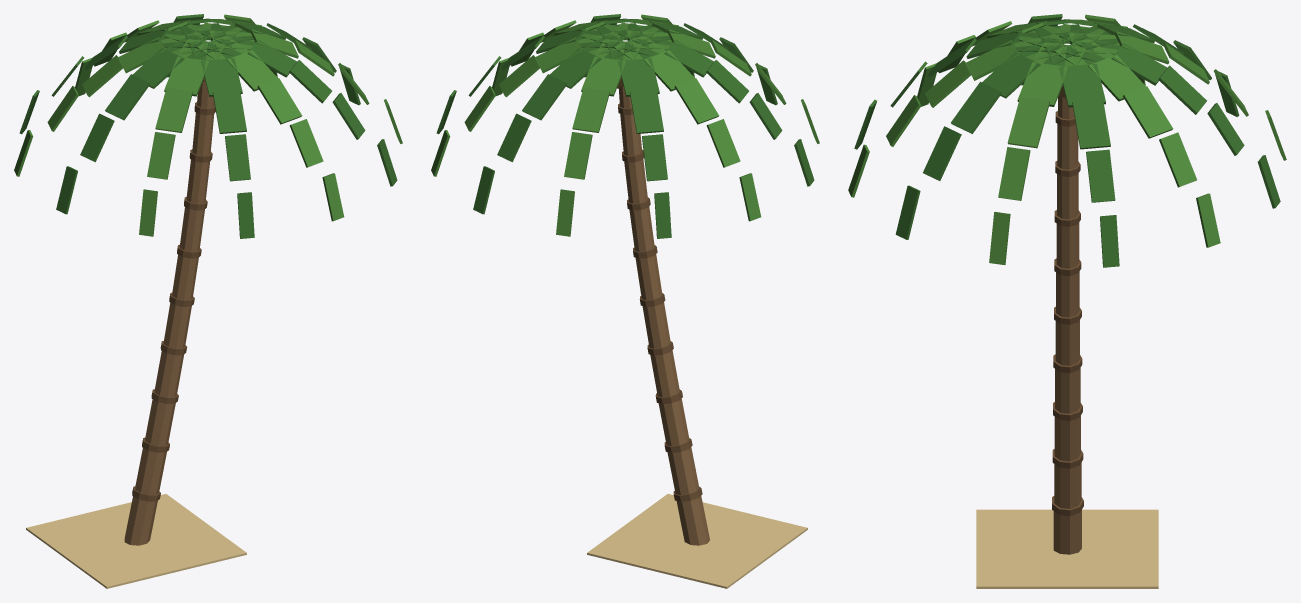
The model's file is OT_Tree_Palm.glb.
3 views of the same model, side by side, from view 1: azimuth 30°, elevation 25°; view 2: azimuth 150°, elevation 25°; view 3: azimuth 270°, elevation 25° (orthographic). The views are drawn at different scales.
Parts seen in each view (by area): view 1: OT_Tree_Palm_PalmLeaf__4f8a3a, OT_Tree_Palm_PalmLeaf2__3d7230, OT_Tree_Palm_Sand__d8c08a, OT_Tree_Palm_PalmBark__8a6a48, OT_Tree_Palm_PalmRing__6e5236; view 2: OT_Tree_Palm_PalmLeaf__4f8a3a, OT_Tree_Palm_PalmLeaf2__3d7230, OT_Tree_Palm_Sand__d8c08a, OT_Tree_Palm_PalmBark__8a6a48, OT_Tree_Palm_PalmRing__6e5236; view 3: OT_Tree_Palm_PalmLeaf__4f8a3a, OT_Tree_Palm_PalmLeaf2__3d7230, OT_Tree_Palm_Sand__d8c08a, OT_Tree_Palm_PalmBark__8a6a48, OT_Tree_Palm_PalmRing__6e5236.
Boxes of the visible parts, x1,y1,x2,y2 form: OT_Tree_Palm_PalmLeaf__4f8a3a: (14,14,402,236); OT_Tree_Palm_PalmLeaf2__3d7230: (19,14,397,238); OT_Tree_Palm_Sand__d8c08a: (26,494,246,588); OT_Tree_Palm_PalmBark__8a6a48: (124,77,214,545); OT_Tree_Palm_PalmRing__6e5236: (132,102,215,501); OT_Tree_Palm_PalmLeaf__4f8a3a: (431,14,819,236); OT_Tree_Palm_PalmLeaf2__3d7230: (436,14,814,238); OT_Tree_Palm_Sand__d8c08a: (587,494,807,588); OT_Tree_Palm_PalmBark__8a6a48: (618,86,709,545); OT_Tree_Palm_PalmRing__6e5236: (618,103,702,501); OT_Tree_Palm_PalmLeaf__4f8a3a: (848,14,1286,264); OT_Tree_Palm_PalmLeaf2__3d7230: (854,14,1280,267); OT_Tree_Palm_Sand__d8c08a: (976,509,1158,588); OT_Tree_Palm_PalmBark__8a6a48: (1053,94,1081,554); OT_Tree_Palm_PalmRing__6e5236: (1052,111,1083,515).
Size of the model in its own units: 7.22 by 10.01 by 7.22.
